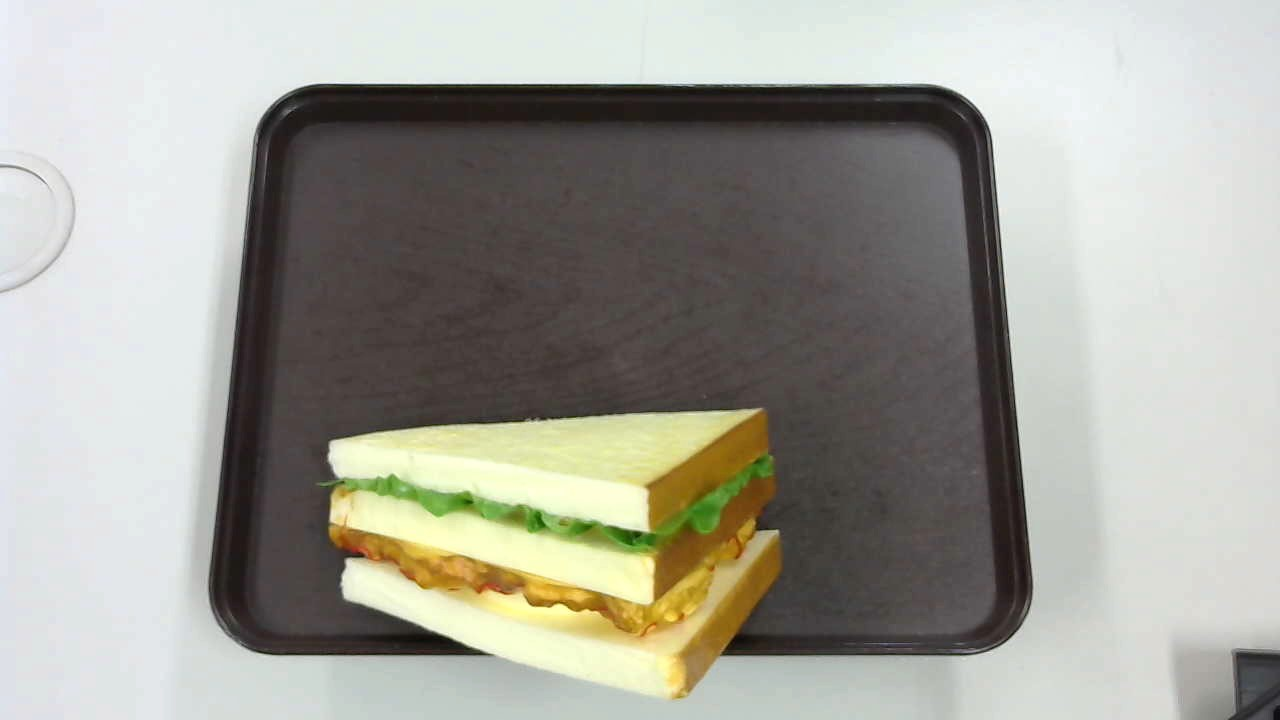sandwich: (317, 406, 782, 698)
